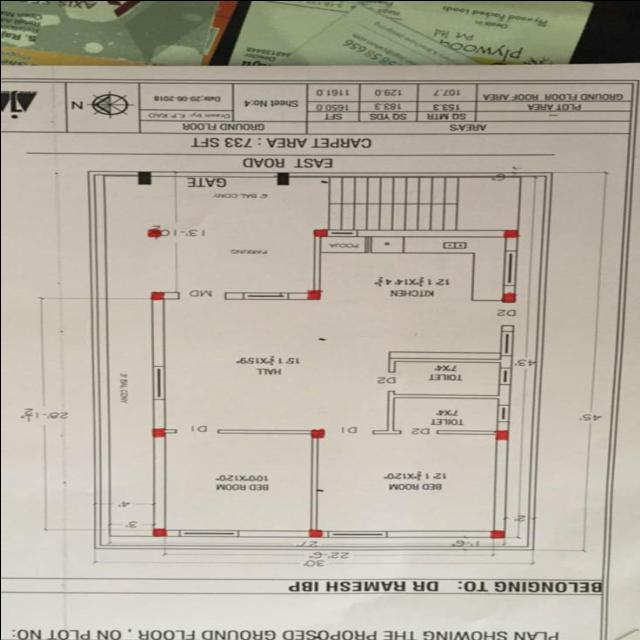column: (142, 421, 170, 439), (486, 426, 514, 442), (496, 226, 524, 242), (298, 524, 324, 541), (300, 428, 330, 442), (492, 289, 522, 303), (143, 288, 171, 302), (146, 523, 170, 539), (141, 225, 168, 239), (298, 287, 324, 301), (306, 226, 331, 240), (486, 527, 508, 542)
